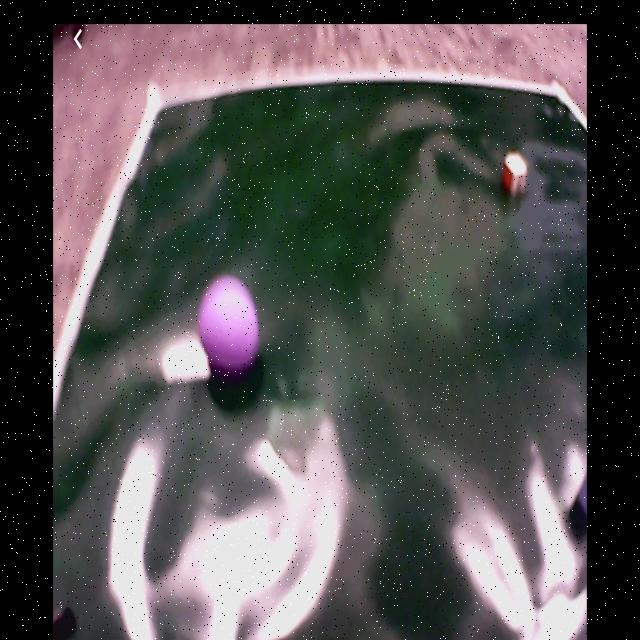ball: (198, 276, 259, 374)
